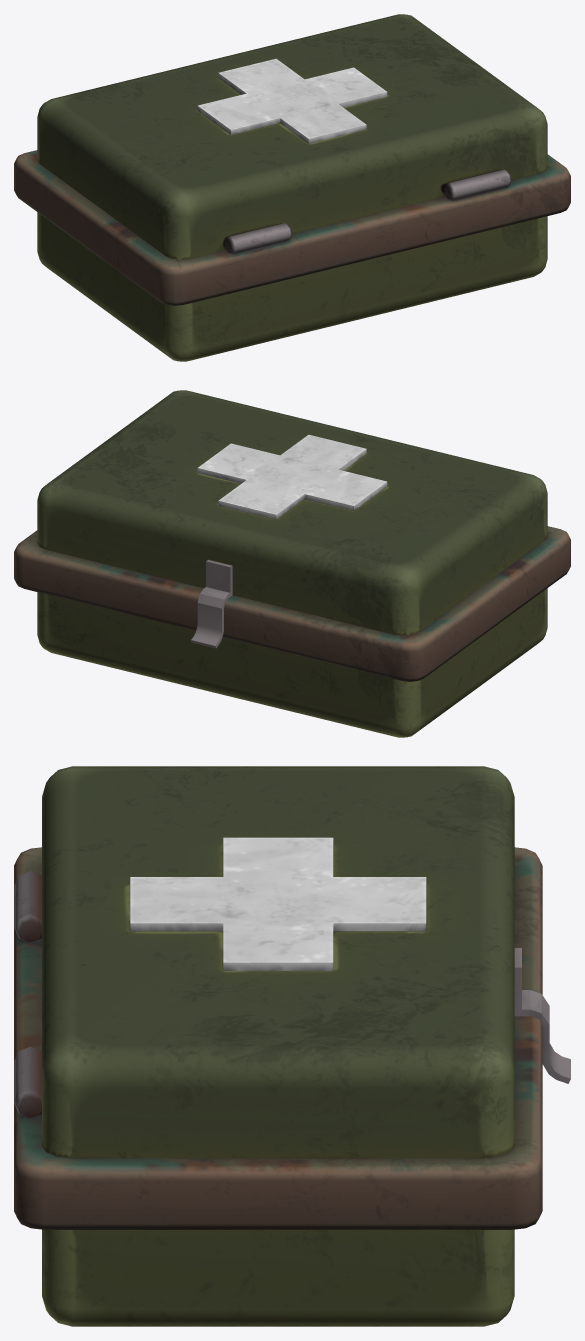
The model's file is HealtPack.fbx.
The picture shows the model from 3 angles, top to bottom: view 1: azimuth 30°, elevation 25°; view 2: azimuth 150°, elevation 25°; view 3: azimuth 270°, elevation 25°; orthographic projection. The views are drawn at different scales.
Parts seen in each view (by area): view 1: polySurface7; view 2: polySurface7; view 3: polySurface7.
Boxes of the visible parts, x1,y1,x2,y2 form: polySurface7: (14,14,570,361); polySurface7: (14,390,570,737); polySurface7: (14,766,570,1326).
Bounding box in the file's own units: 0.3539 × 0.1433 × 0.2542.
